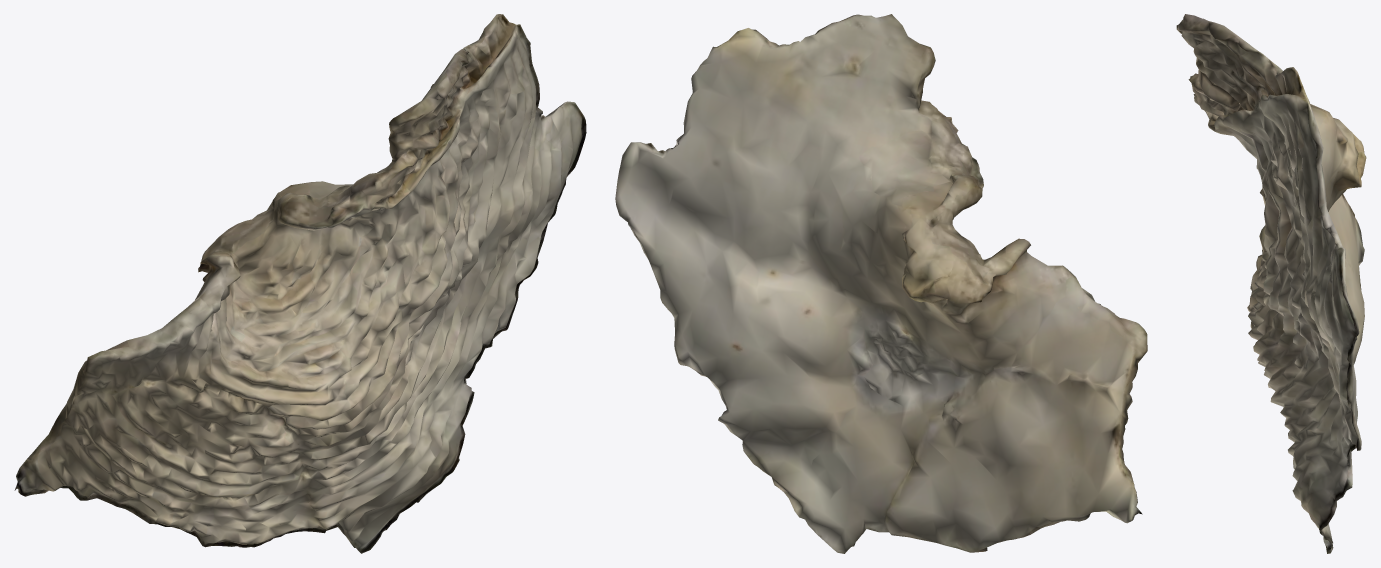
File: agaricia.glb
3 renders of one model, left to right at view 1: azimuth 30°, elevation 25°; view 2: azimuth 150°, elevation 25°; view 3: azimuth 270°, elevation 25°, orthographic. The views are drawn at different scales.
Size of the model in its own units: 0.1304 by 0.116 by 0.0363.
1 material, 1 textured.
